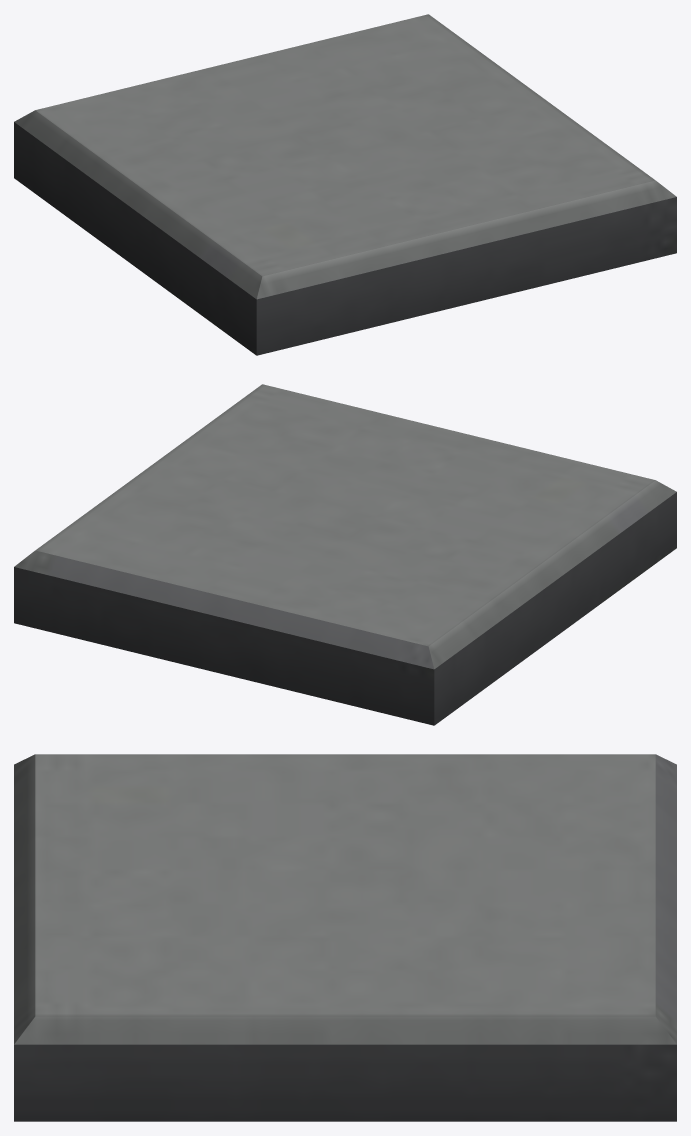
File: refined-concrete.glb
3 renders of one model, top to bottom at view 1: azimuth 30°, elevation 25°; view 2: azimuth 150°, elevation 25°; view 3: azimuth 270°, elevation 25°, orthographic. The views are drawn at different scales.
Visible parts, largest first — view 1: refined-concrete; view 2: refined-concrete; view 3: refined-concrete.
Boxes of the visible parts, <box> form: refined-concrete: <box>14,14,676,355</box>; refined-concrete: <box>14,384,676,725</box>; refined-concrete: <box>14,754,676,1121</box>.
Bounding box in the file's own units: 0.25 × 0.04 × 0.25.
1 material, 1 textured.
